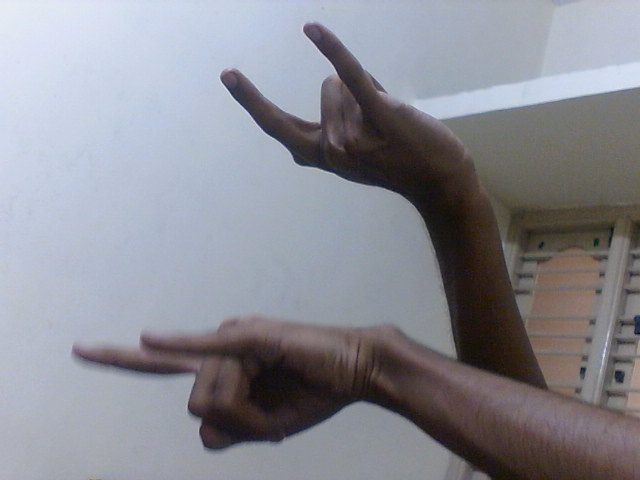hand: (216, 20, 475, 207), (66, 310, 392, 455)
